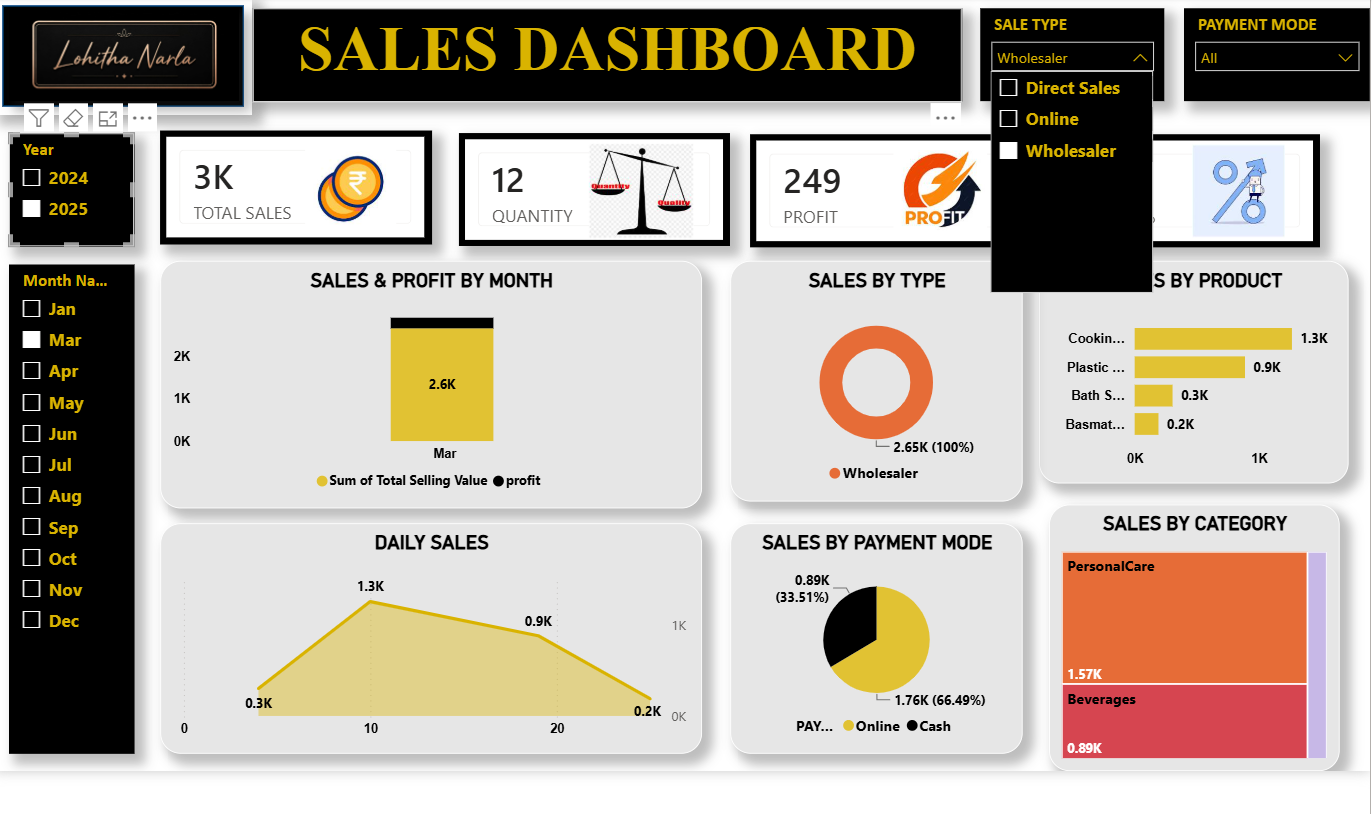

The dashboard page shown, as its layout file describes it:
{"tool":"powerbi","page":{"name":"SALES DASHBOARD","canvas":[1280,720],"ordinal":0},"visuals":[{"type":"shape","box":[0,0,240.1,109.8],"z":0},{"type":"image","box":[13.7,11,214.1,86.4],"z":1000},{"type":"textbox","box":[240.1,11,660,86.4],"z":2000},{"type":"slicer","fields":{"Values":["InputData.Year"]},"box":[13.7,126.2,116.6,105.7],"z":3000},{"type":"slicer","fields":{"Values":["InputData.Month Name"]},"box":[13.7,248.4,116.6,455.6],"z":4000},{"type":"slicer","fields":{"Values":["InputData.SALE TYPE"]},"box":[918,11,171.5,86.4],"z":5000},{"type":"slicer","fields":{"Values":["InputData.PAYMENT MODE"]},"box":[1107.4,11,172.9,86.4],"z":6000},{"type":"cardVisual","fields":{"Data":["Sum(InputData.Total Selling Value)"]},"box":[155.1,124.9,252.5,105.7],"z":7000},{"type":"cardVisual","fields":{"Data":["InputData.profit %"]},"box":[981.1,127.6,252,105],"z":8000},{"type":"cardVisual","fields":{"Data":["InputData.profit"]},"box":[703.9,127.6,252,105],"z":9000},{"type":"cardVisual","fields":{"Data":["Sum(InputData.QUANTITY)"]},"box":[432.2,126.2,252,105],"z":10000},{"type":"image","box":[269,135.8,126.2,85.1],"z":11000},{"type":"image","box":[544.8,135.8,113.9,89.2],"z":12000},{"type":"image","box":[1082.7,137.2,150.9,86.4],"z":13000},{"type":"image","box":[830.2,134.5,100.2,87.8],"z":14000},{"type":"columnChart","title":"SALES & PROFIT BY MONTH","fields":{"Category":["InputData.Month Name"],"Y":["Sum(InputData.Total Selling Value)","InputData.profit"]},"box":[155.1,245.6,503.6,230.5],"z":15000},{"type":"areaChart","title":"DAILY SALES","fields":{"Category":["InputData.Day"],"Y2":["Sum(InputData.Total Selling Value)"]},"box":[155.1,489.9,503.6,214.1],"z":16000},{"type":"clusteredBarChart","title":"SALES BY PRODUCT","fields":{"Category":["InputData.MasterData.PRODUCT"],"Y":["Sum(InputData.Total Selling Value)"]},"box":[971.5,245.6,288.2,207.2],"z":17000},{"type":"treemap","title":"SALES BY CATEGORY","fields":{"Values":["Sum(InputData.Total Selling Value)"],"Group":["InputData.MasterData.CATEGORY"]},"box":[981.1,472,270.3,248.4],"z":18000},{"type":"donutChart","title":"SALES BY TYPE","fields":{"Y":["Sum(InputData.Total Selling Value)"],"Category":["InputData.SALE TYPE"]},"box":[684.7,245.6,271.7,223.7],"z":19000},{"type":"pieChart","title":"SALES BY PAYMENT MODE","fields":{"Y":["Sum(InputData.Total Selling Value)"],"Category":["InputData.PAYMENT MODE"]},"box":[685,490,272,214],"z":20000}]}

Visuals, with their boxes in screenshot pixels (x1, y1, x2, y2):
shape: bbox(0, 0, 252, 113)
image: bbox(4, 5, 239, 100)
textbox: bbox(252, 5, 976, 100)
slicer - InputData.Year: bbox(4, 131, 132, 247)
slicer - InputData.Month Name: bbox(4, 265, 132, 764)
slicer - InputData.SALE TYPE: bbox(995, 5, 1183, 100)
slicer - InputData.PAYMENT MODE: bbox(1203, 5, 1371, 100)
cardVisual - Sum(InputData.Total Selling Value): bbox(159, 130, 436, 246)
cardVisual - InputData.profit %: bbox(1064, 133, 1341, 248)
cardVisual - InputData.profit: bbox(761, 133, 1037, 248)
cardVisual - Sum(InputData.QUANTITY): bbox(463, 131, 739, 246)
image: bbox(284, 142, 422, 235)
image: bbox(586, 142, 711, 239)
image: bbox(1176, 143, 1341, 238)
image: bbox(899, 140, 1009, 236)
"SALES & PROFIT BY MONTH" columnChart: bbox(159, 262, 711, 515)
"DAILY SALES" areaChart: bbox(159, 530, 711, 764)
"SALES BY PRODUCT" clusteredBarChart: bbox(1054, 262, 1370, 489)
"SALES BY CATEGORY" treemap: bbox(1064, 510, 1361, 782)
"SALES BY TYPE" donutChart: bbox(740, 262, 1037, 507)
"SALES BY PAYMENT MODE" pieChart: bbox(740, 530, 1038, 764)
